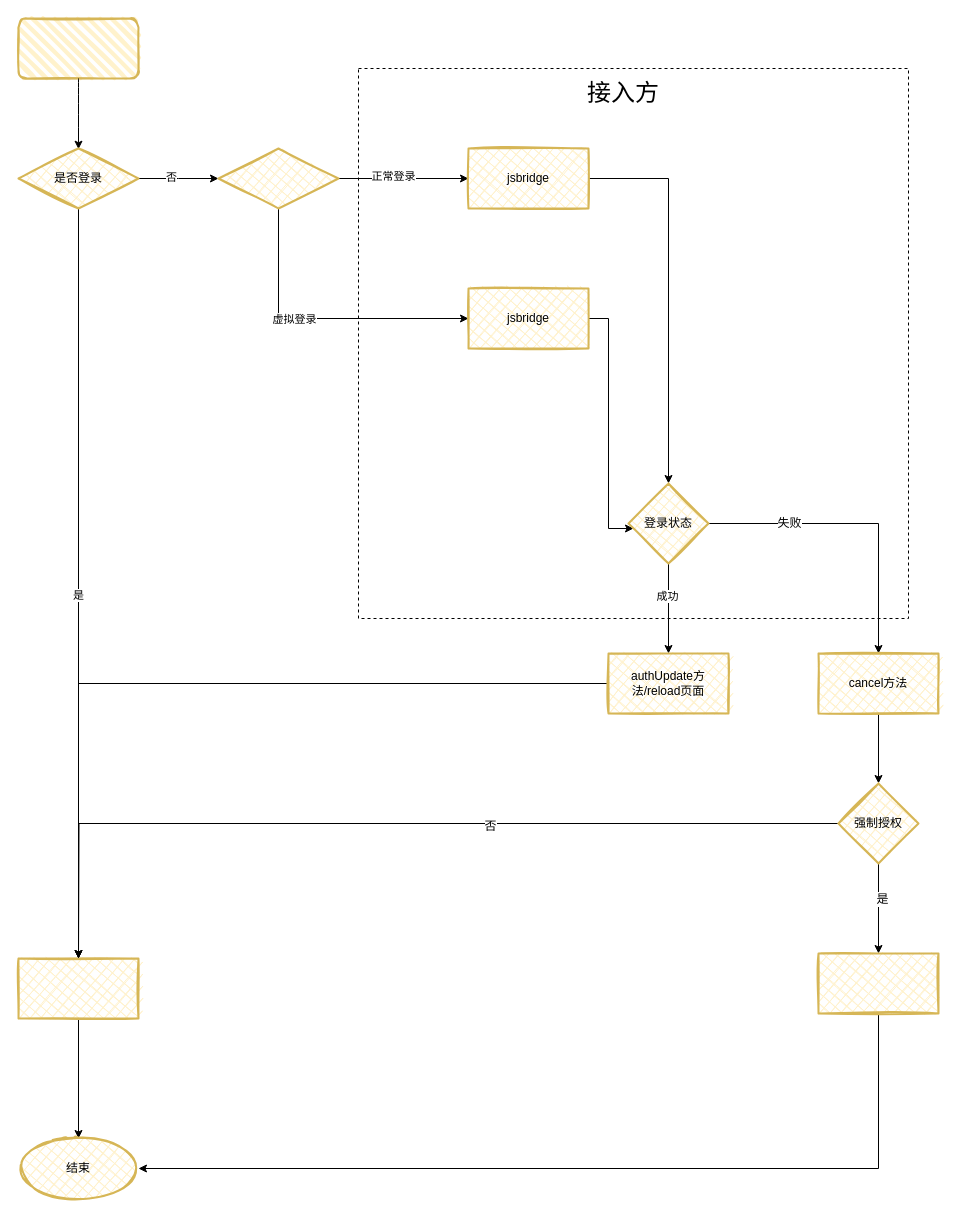
The diagram is 956 pixels wide and 1216 high, and some of its shapes have lost their labels. Each missing label, with the centre of its shape:
"提示？" belongs at (x=878, y=983).
"点击按钮" belongs at (x=78, y=48).
"自助流程" belongs at (x=78, y=988).
"触发auth事件" belongs at (x=278, y=178).
